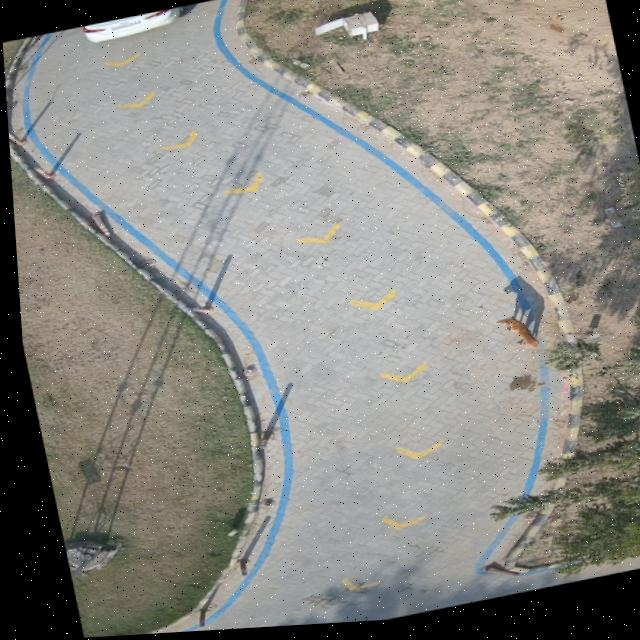car: (82, 9, 181, 42)
